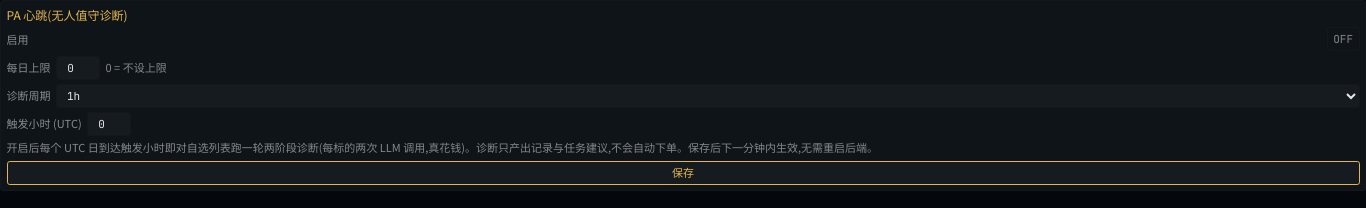
Test: PaHeartbeatPanel › saves the toggled state and says it applies on the next tick
Click the button "OFF". click: click(1343, 39)
box: [1327, 27, 1360, 51]
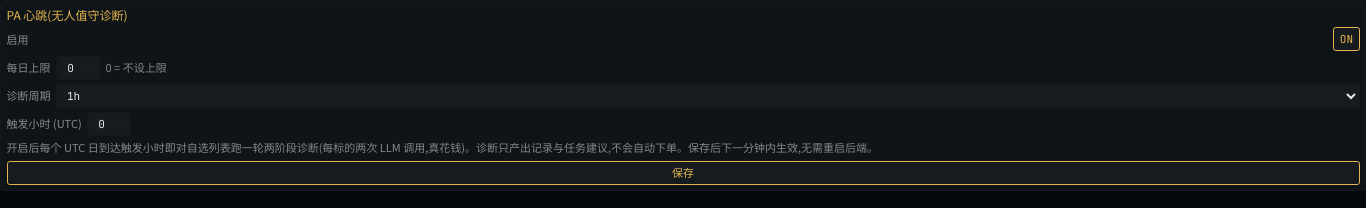
Click the button "保存". click: click(683, 172)
box: [6, 160, 1360, 184]
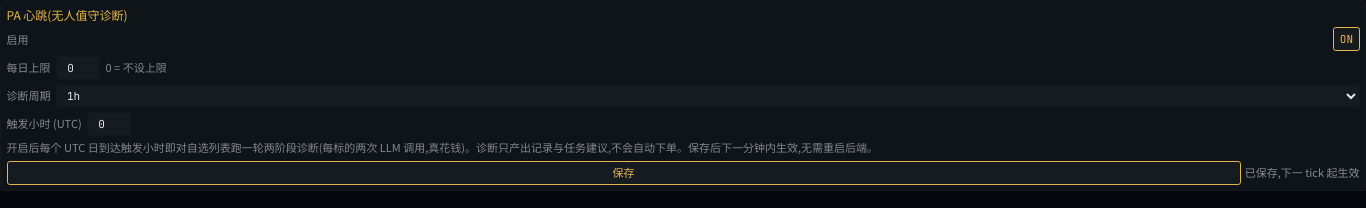
Expected: the text "已保存,下一 tick 起生效" is shown, [1245, 165, 1360, 180]
